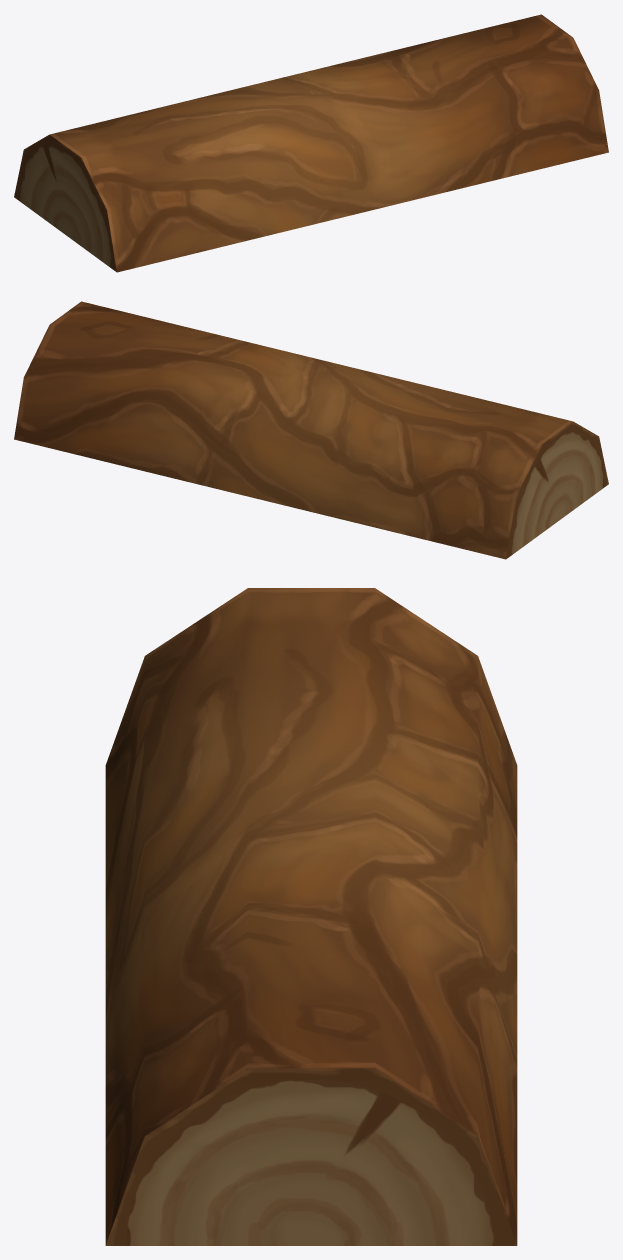
File: Log_2.FBX
3 views of the same model, one above another, from view 1: azimuth 30°, elevation 25°; view 2: azimuth 150°, elevation 25°; view 3: azimuth 270°, elevation 25° (orthographic). The views are drawn at different scales.
Visible parts, largest first — view 1: Log_2; view 2: Log_2; view 3: Log_2.
Part boxes in pixels (x1=…): Log_2: x1=14, y1=14, x2=608, y2=272; Log_2: x1=14, y1=301, x2=608, y2=559; Log_2: x1=105, y1=588, x2=517, y2=1245.
Size of what is drawn, in the model's own units: 166 by 60 by 28.53.
